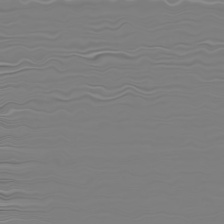cavities: (40, 41, 191, 174)
